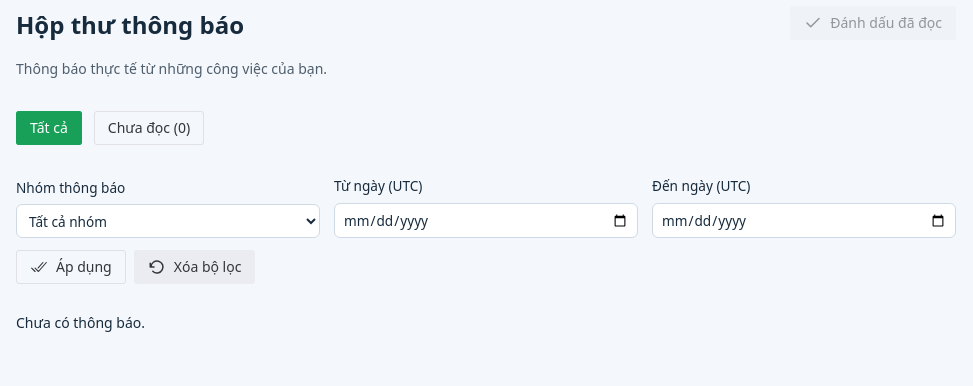
Test: NFX-A2 Inbox filter controls › clears applied filters on reset and displays a distinct empty-filter state
This screenshot has width=973, height=386.
Select "Workflow" in the dropdown with test id "inbox-event-group": point(168, 221) [16, 204, 320, 238]
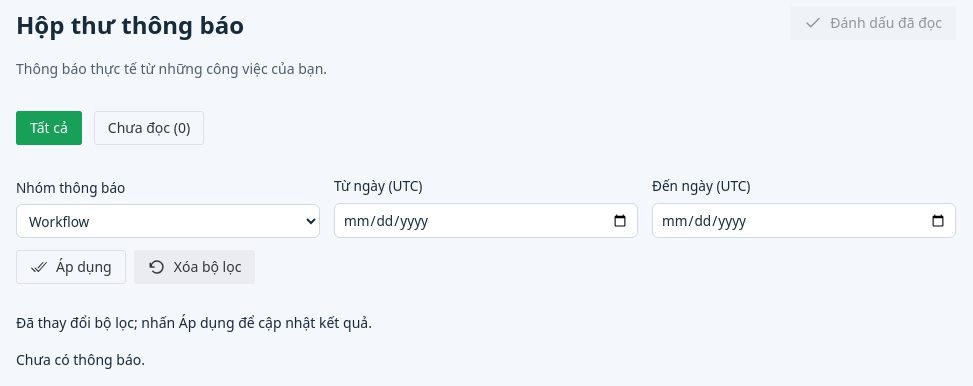
Click the button with test id "inbox-reset": point(195, 267) [134, 250, 255, 284]
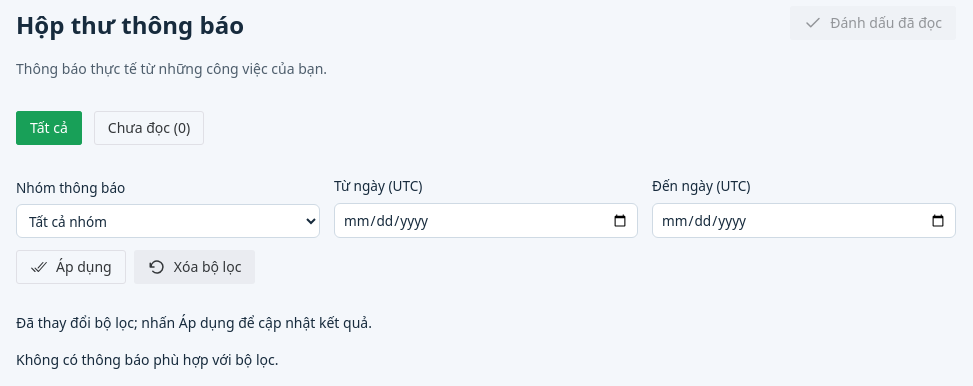
Expected: the text "Không có thông báo phù hợp với bộ lọc." is shown, [16, 350, 278, 369]
